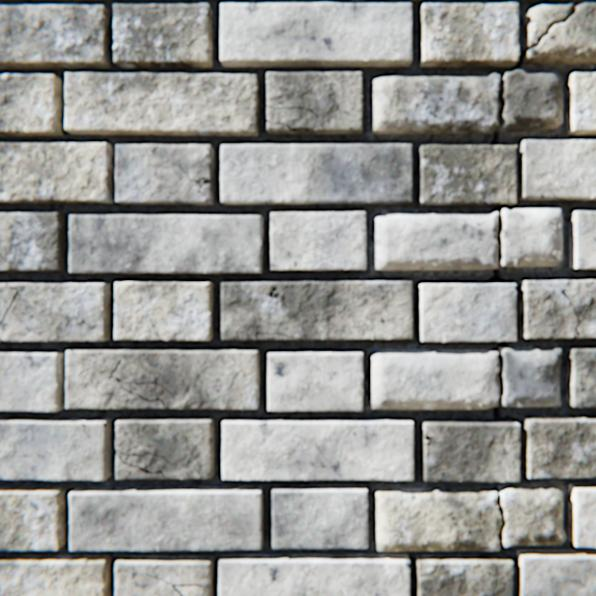brick: (0, 349, 259, 411), (70, 485, 263, 550), (221, 4, 411, 68), (66, 74, 259, 136), (223, 418, 413, 479), (418, 141, 595, 205), (221, 145, 412, 204), (222, 281, 412, 340), (70, 215, 263, 273), (219, 552, 409, 595), (0, 6, 111, 70), (0, 417, 112, 479), (0, 144, 114, 203), (0, 283, 111, 341), (114, 5, 213, 69), (420, 4, 518, 68), (421, 419, 519, 481), (272, 484, 368, 547), (116, 417, 214, 478), (267, 73, 362, 135), (116, 145, 214, 205), (115, 282, 213, 340), (268, 351, 363, 410), (418, 284, 516, 341), (271, 212, 366, 270), (0, 553, 111, 595), (522, 416, 595, 477), (519, 280, 595, 338), (0, 486, 67, 549), (415, 553, 513, 595), (116, 554, 213, 595), (0, 75, 64, 137), (0, 213, 67, 271), (515, 548, 595, 595), (565, 74, 595, 135), (565, 347, 595, 406), (567, 483, 595, 546), (568, 211, 595, 269), (0, 283, 17, 322), (375, 0, 558, 2), (272, 0, 364, 2), (0, 0, 43, 1), (75, 0, 106, 1)
broken_brick: (375, 486, 500, 550), (372, 74, 499, 134), (370, 349, 499, 408), (374, 212, 497, 270), (521, 4, 595, 65), (496, 483, 565, 546), (497, 71, 561, 131), (497, 346, 560, 405), (498, 209, 561, 266), (523, 5, 571, 51)
crack: (509, 6, 575, 72), (110, 358, 171, 404), (492, 341, 515, 420), (116, 448, 165, 475), (146, 572, 203, 595), (489, 75, 506, 146), (493, 481, 511, 546), (0, 283, 23, 325), (180, 165, 212, 193), (493, 205, 504, 266), (267, 106, 318, 117), (571, 309, 586, 338), (267, 121, 307, 131), (560, 288, 574, 313), (145, 452, 172, 463), (487, 268, 506, 283), (270, 332, 301, 339), (424, 429, 433, 444), (269, 287, 279, 298), (571, 0, 595, 4), (586, 296, 593, 307), (507, 203, 516, 210), (425, 477, 443, 480), (493, 549, 503, 552), (255, 332, 268, 333)
